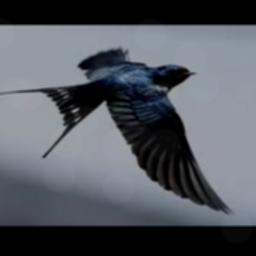Swallow: (0, 46, 236, 216)
